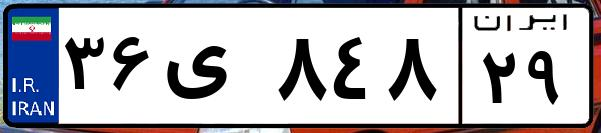2: (475, 38, 525, 113)
3: (57, 26, 110, 100)
4: (330, 28, 385, 110)
6: (110, 28, 158, 98)
8: (270, 28, 330, 110), (385, 28, 445, 110)
9: (525, 38, 570, 115)
ی: (158, 20, 270, 120)
